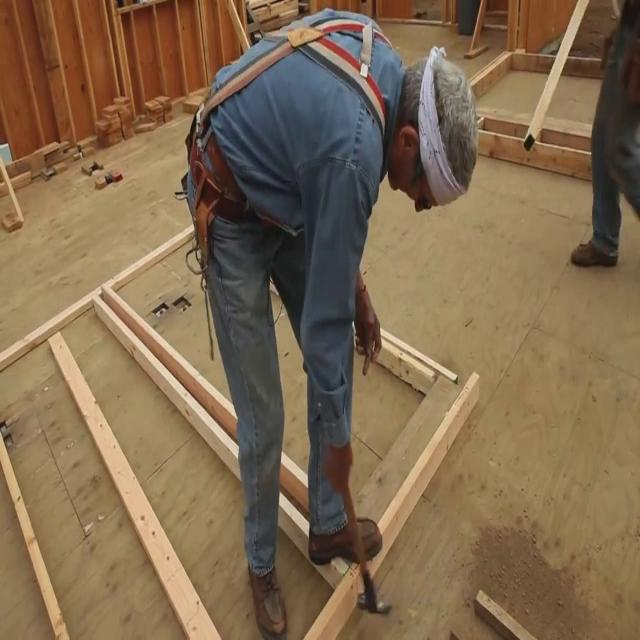hammer: (340, 480, 392, 614)
